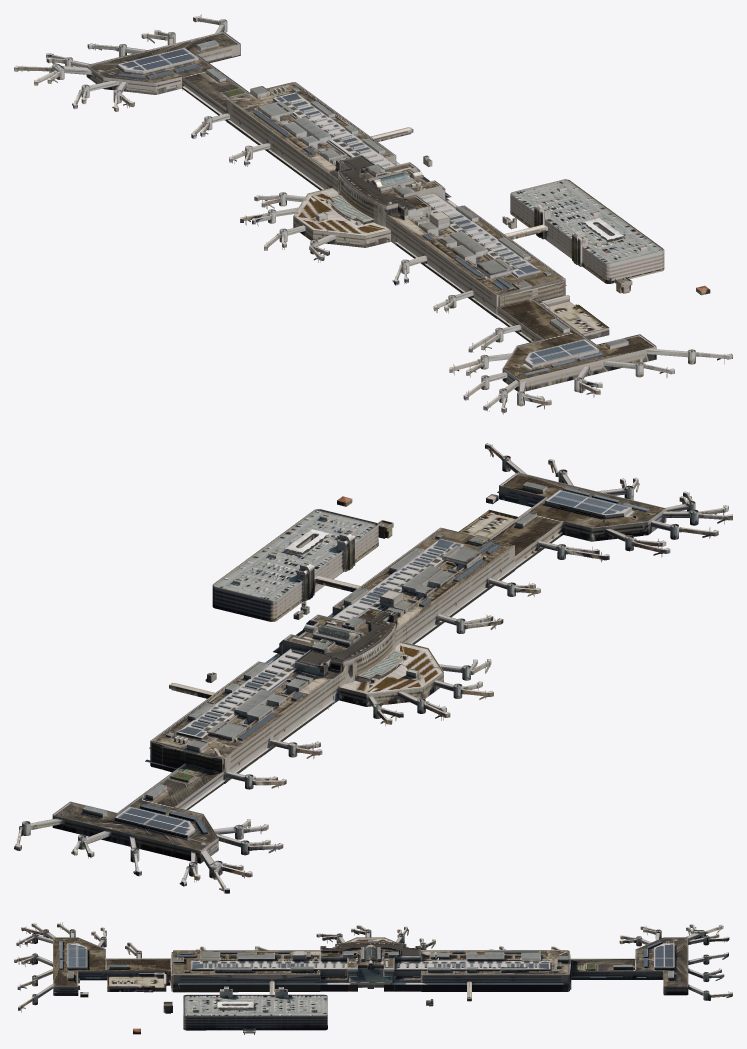
Rendered from airport.obj.
The picture shows the model from 3 angles, top to bottom: view 1: azimuth 30°, elevation 25°; view 2: azimuth 150°, elevation 25°; view 3: azimuth 270°, elevation 25°; orthographic projection. The views are drawn at different scales.
Visible parts, largest first — view 1: 53392652_bldg_6677_53392652_bldg_6677.001; view 2: 53392652_bldg_6677_53392652_bldg_6677.001; view 3: 53392652_bldg_6677_53392652_bldg_6677.001.
Part boxes in pixels (box(x1,y1,x2,y2)): 53392652_bldg_6677_53392652_bldg_6677.001: box(14, 14, 732, 414); 53392652_bldg_6677_53392652_bldg_6677.001: box(14, 443, 732, 893); 53392652_bldg_6677_53392652_bldg_6677.001: box(14, 922, 732, 1034).
Bounding box in the file's own units: 333 × 39.38 × 940.
7 materials, 7 textured.
